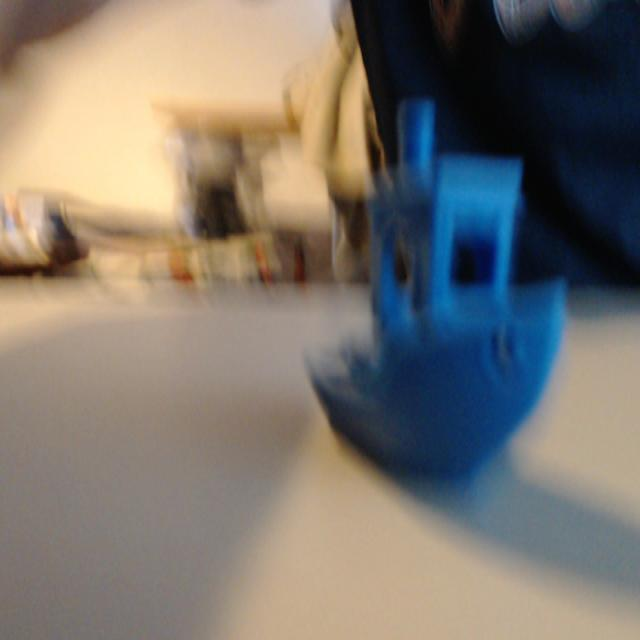benchy: (297, 101, 573, 509)
